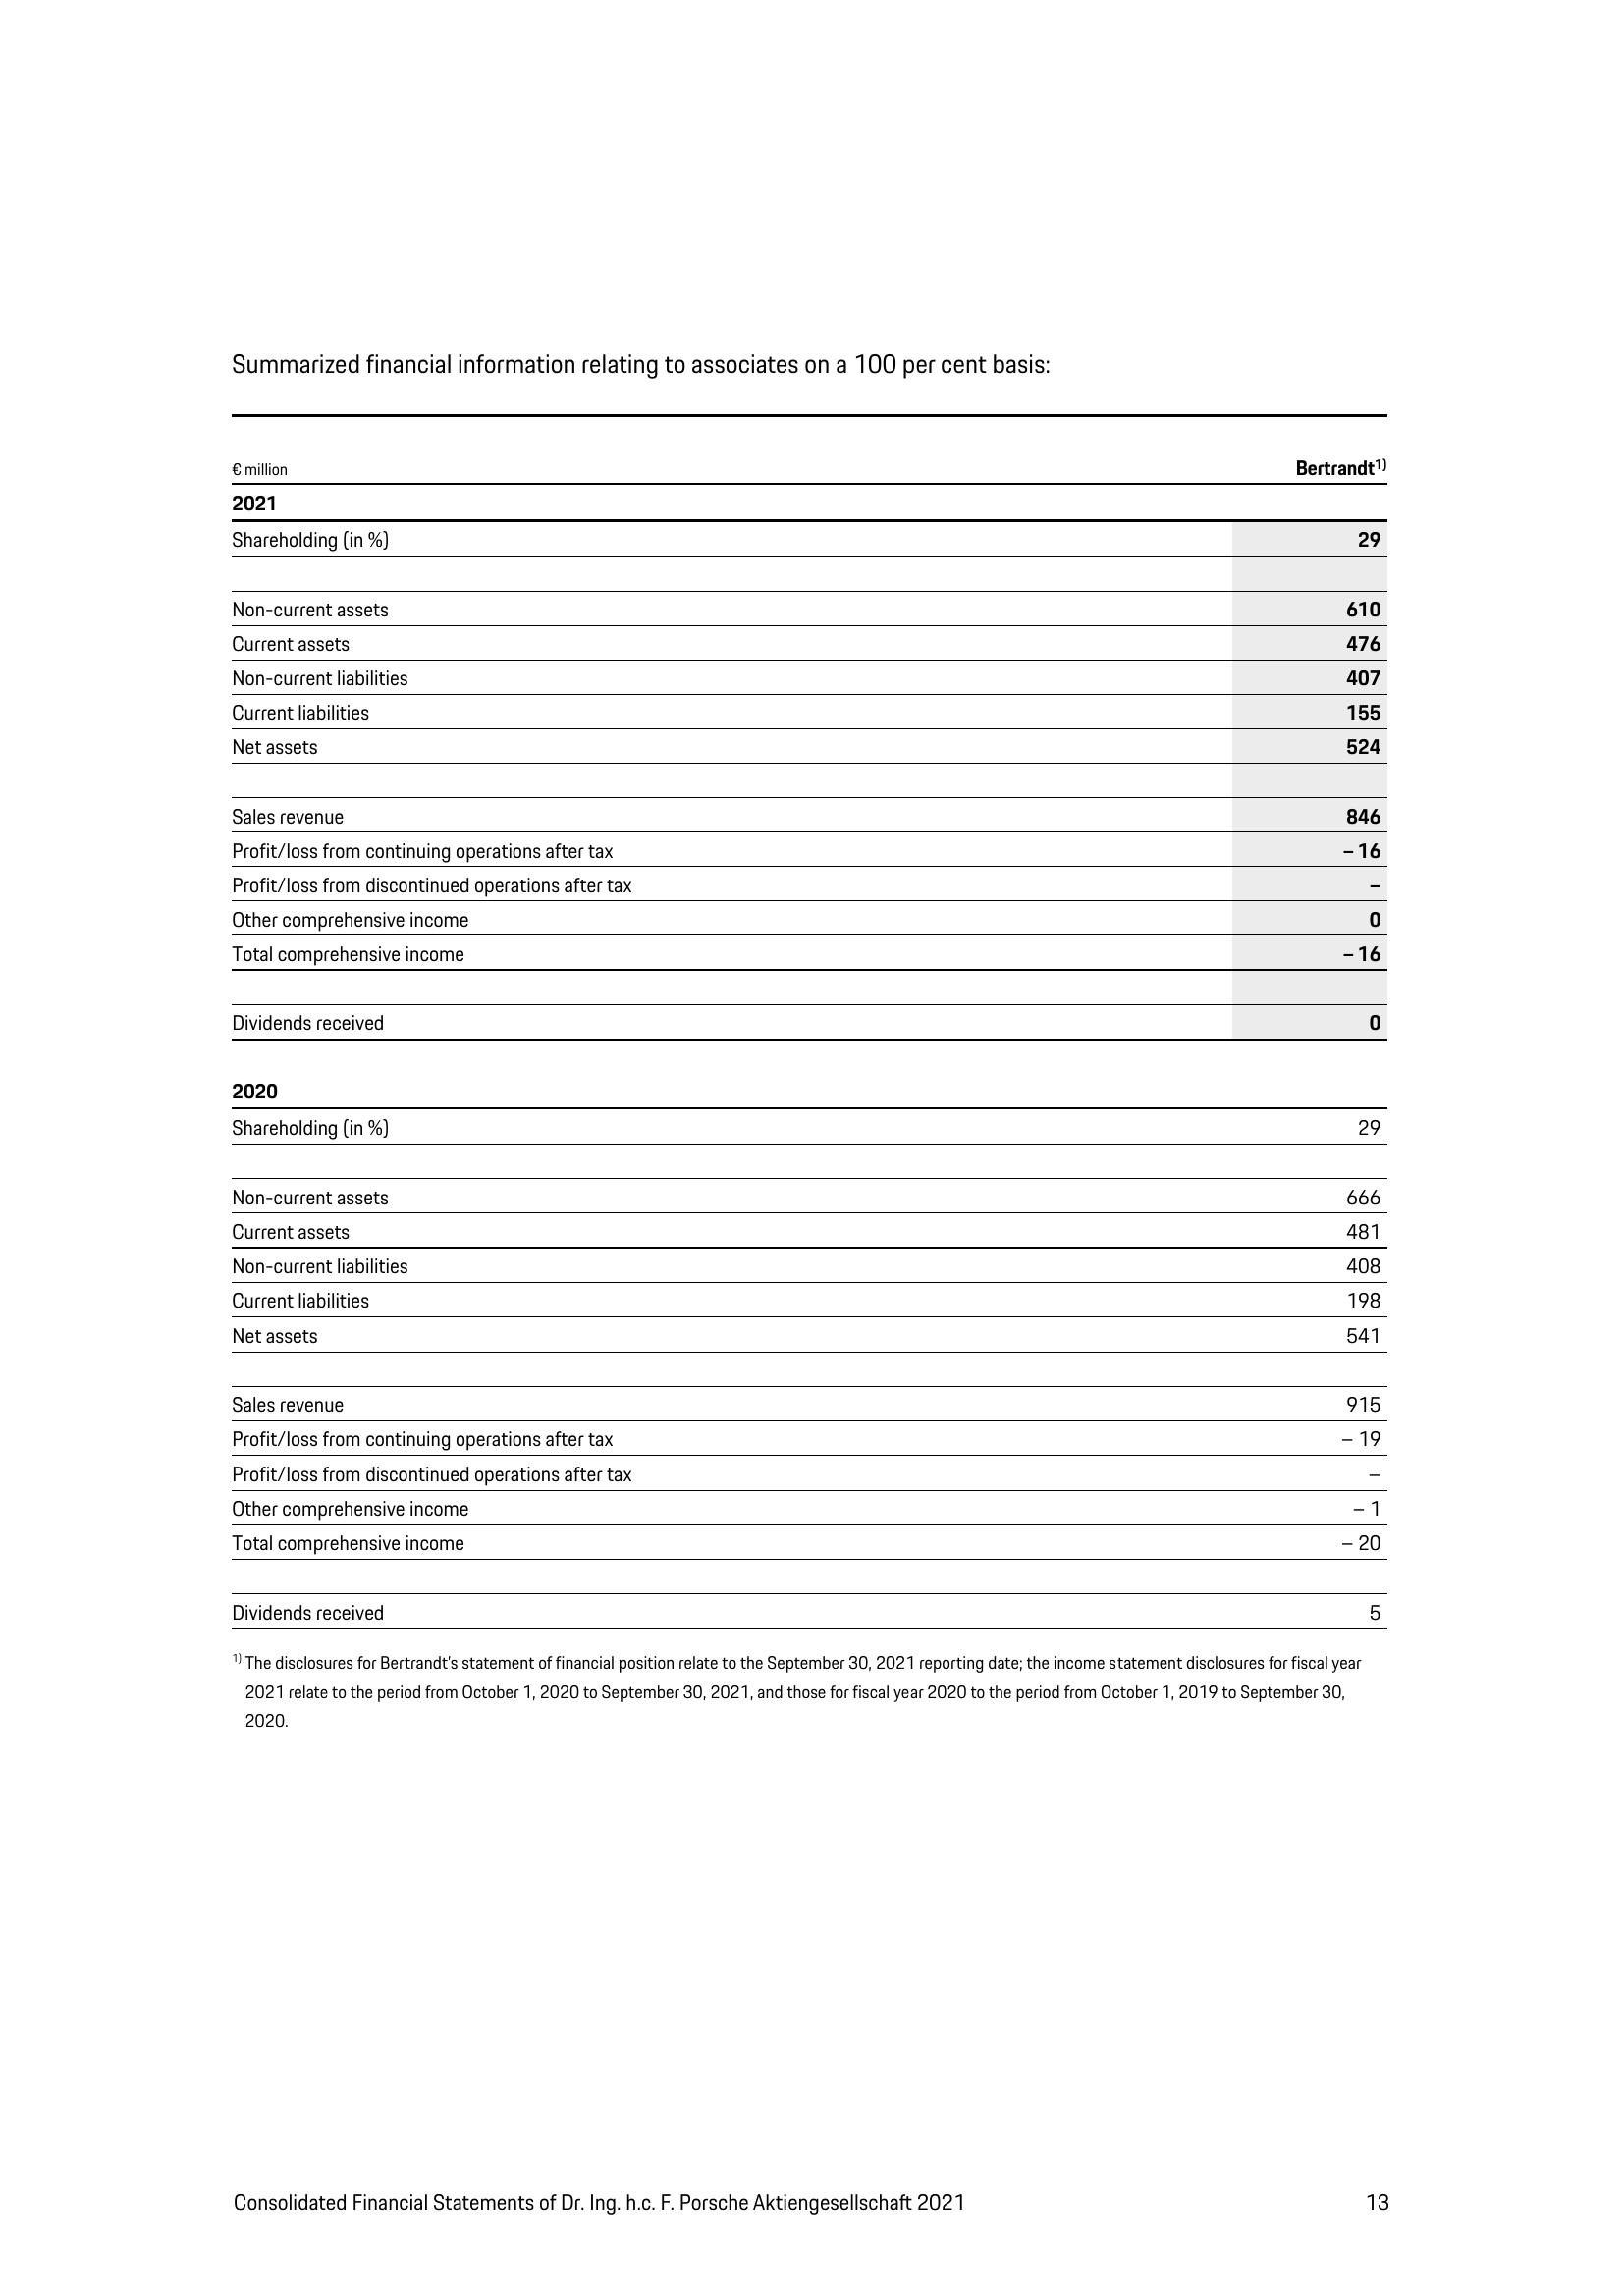Footer: (0, 2131, 1624, 2296)
Header: (0, 0, 1624, 191)
Table: (209, 411, 1403, 1641)
